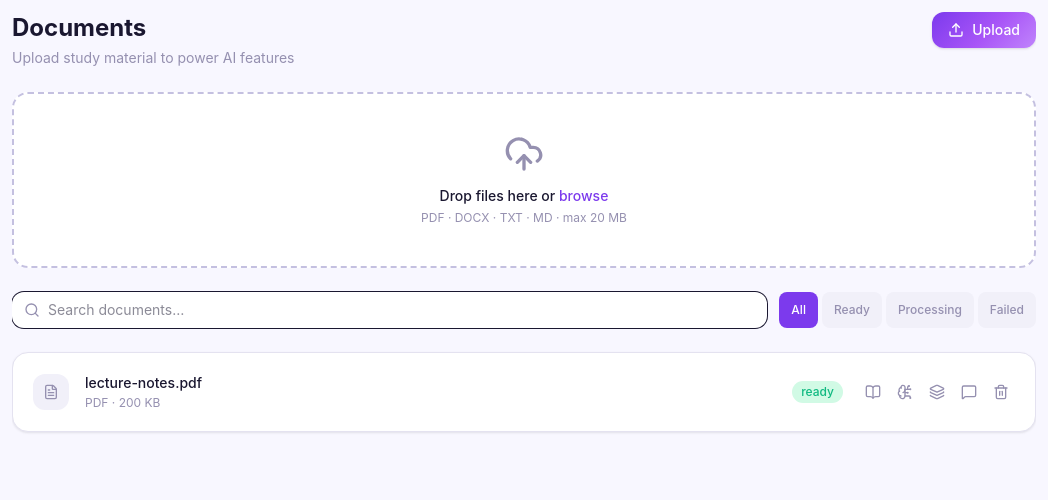
Test case: DocumentsPage › shows no results message when search has no matches
This screenshot has width=1048, height=500.
Expected: the text "lecture-notes.pdf" is shown, left=85, top=374, right=202, bottom=391
Type "zzznomatch" into the field with placeholder "Search documents…" at (390, 310), box left=12, top=292, right=767, bottom=328
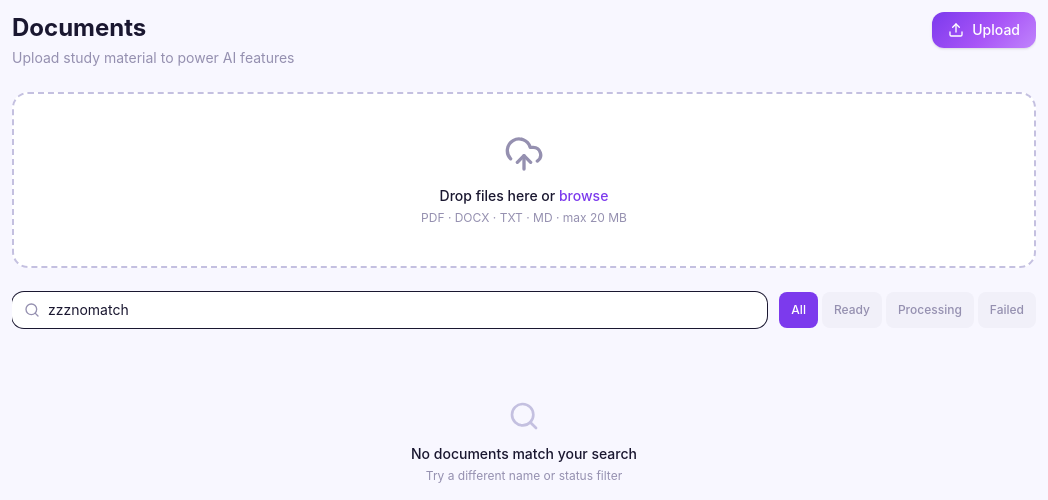
Now the text "No documents match your search" is shown, box left=411, top=445, right=637, bottom=462
